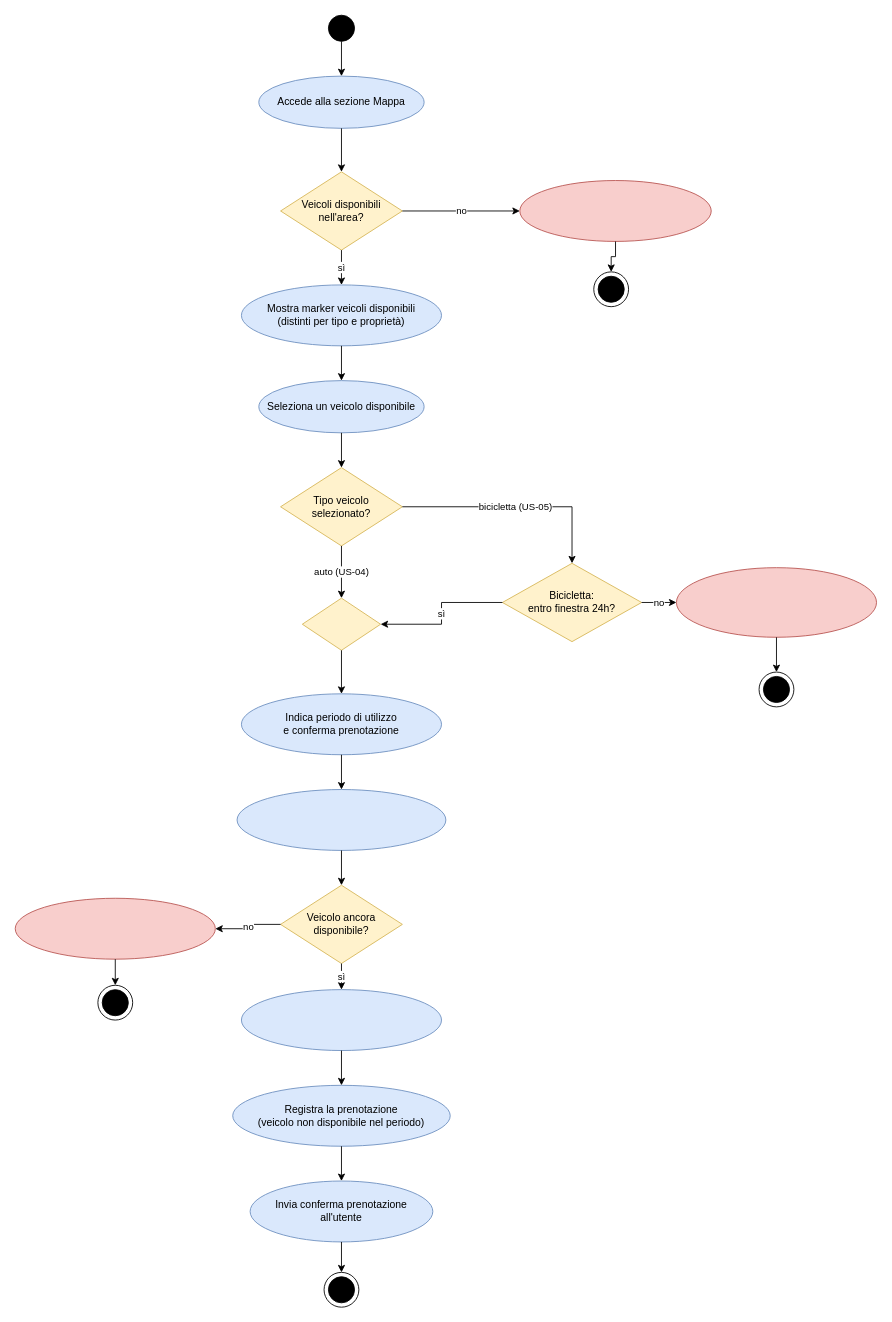
Image size: 892x1322. Some labels were removed from this diagram. The centre of each missing label's shape, as x and y in pixels:
Addebita importo sul metodo di pagamento registrato: pixel 341 1020
Mostra messaggio "Nessun veicolo disponibile in questa zona": pixel 615 210
Rifiuta prenotazione: veicolo non più disponibile (nessun addebito): pixel 114 928
Rifiuta richiesta: messaggio sulla finestra delle 24h (nessun addebito): pixel 776 602
Verifica disponibilità effettiva del veicolo per il periodo richiesto: pixel 341 819
